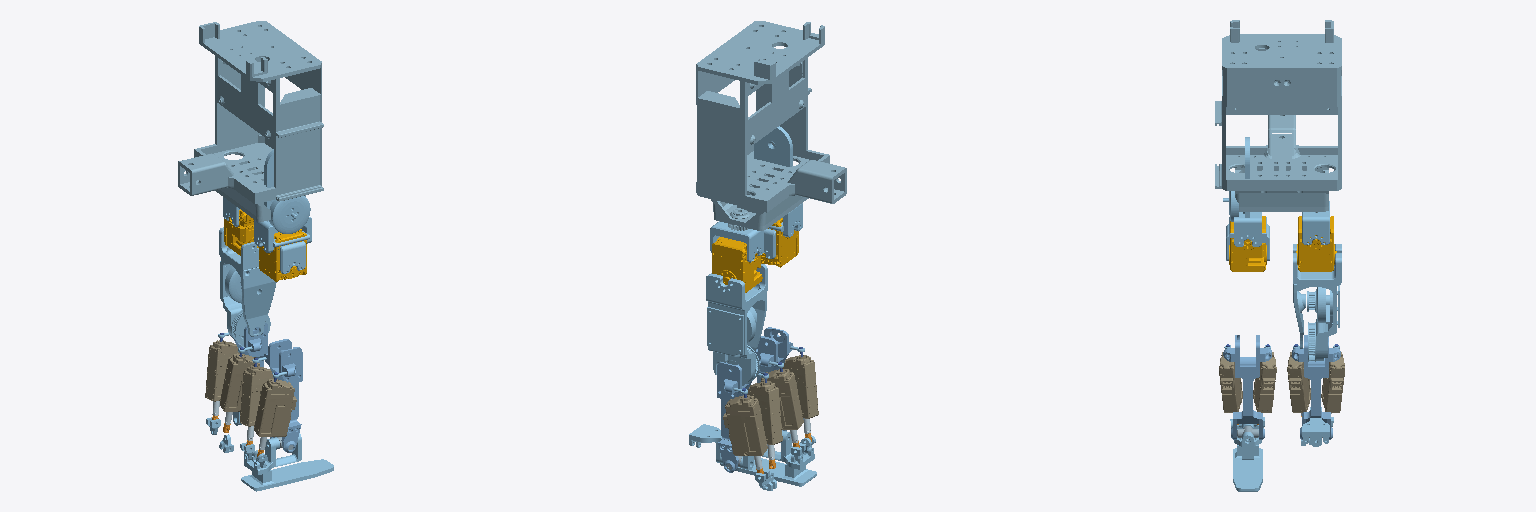
--- Facts derived from the render (not from the file) ---
Views: 3 orthographic renders of the robot side by side, from view 1: azimuth 30°, elevation 25°; view 2: azimuth 150°, elevation 25°; view 3: azimuth 270°, elevation 25°.
Model toddlerbot_legs with 37 links and 36 joints (32 revolute, 4 prismatic), rooted at body_link, posed every joint at zero.
Visible links, largest first — view 1: body_link, left_hip_pitch_link, right_hip_pitch_link, ank_roll_link_2, 12lf_4, right_calf_link, 12lf, 12lf_3, 12lf_2, hip_roll_link_2, hip_roll_link, hip_yaw_link_2 (+1 smaller); view 2: body_link, left_hip_pitch_link, 12lf, hip_roll_link, ank_roll_link_2, right_hip_pitch_link, left_calf_link, 12lf_2, 12lf_4, 12lf_3, right_calf_link, hip_yaw_link (+2 smaller); view 3: body_link, left_hip_pitch_link, right_calf_link, ank_roll_link_2, left_calf_link, hip_roll_link, hip_roll_link_2, 12lf_2, 12lf_3, 12lf_4, 12lf, hip_yaw_link (+3 smaller).
Boxes of the visible links, x1,y1,x2,y2 form: body_link: (178, 21, 323, 221); left_hip_pitch_link: (219, 227, 276, 345); right_hip_pitch_link: (264, 149, 310, 273); ank_roll_link_2: (241, 433, 333, 491); 12lf_4: (254, 379, 296, 436); right_calf_link: (264, 339, 302, 452); 12lf: (205, 340, 239, 401); 12lf_3: (240, 365, 273, 426); 12lf_2: (220, 353, 259, 411); hip_roll_link_2: (259, 229, 306, 281); hip_roll_link: (224, 209, 258, 255); hip_yaw_link_2: (254, 217, 311, 252); body_link: (696, 21, 846, 230); left_hip_pitch_link: (706, 264, 767, 385); 12lf: (723, 395, 767, 455); hip_roll_link: (712, 237, 762, 292); ank_roll_link_2: (720, 430, 816, 486); right_hip_pitch_link: (754, 126, 792, 258); left_calf_link: (717, 362, 752, 472); 12lf_2: (747, 381, 782, 444); 12lf_4: (782, 355, 818, 418); 12lf_3: (761, 369, 803, 429); right_calf_link: (755, 327, 792, 430); hip_yaw_link: (710, 221, 763, 262); body_link: (1215, 20, 1341, 212); left_hip_pitch_link: (1293, 244, 1341, 361); right_calf_link: (1223, 335, 1271, 439); ank_roll_link_2: (1233, 424, 1262, 491); left_calf_link: (1292, 335, 1340, 439); hip_roll_link: (1296, 216, 1336, 271); hip_roll_link_2: (1229, 216, 1266, 271); 12lf_2: (1287, 352, 1310, 412); 12lf_3: (1253, 352, 1276, 412); 12lf_4: (1219, 352, 1242, 412); 12lf: (1321, 352, 1344, 412); hip_yaw_link: (1302, 201, 1329, 244).
Size in the robot's own frame: 0.1464 by 0.13 by 0.4703 metres.
Meshes: 37 distinct files referenced, 37 mesh visuals loaded (37 binary STL).

URDF robot description (toddlerbot_legs):
<robot name="toddlerbot_legs">
  <mujoco>
    <compiler strippath="false" balanceinertia="true" discardvisual="false" />
  </mujoco>
  <link name="body_link">
    <visual>
      <origin xyz="0 0 0" rpy="0 -0 0" />
      <geometry>
        <mesh filename="../assemblies/no_body/meshes/body_link_visual.stl" />
      </geometry>
      <material name="body_link_material">
        <color rgba="0.60265235106909254004 0.74758186619713706822 0.82292492068132783167 1.0" />
      </material>
    </visual>
    <collision>
      <origin xyz="0 0 0" rpy="0 -0 0" />
      <geometry>
        <mesh filename="collisions/body_link_collision.stl" />
      </geometry>
    </collision>
    <inertial>
      <origin xyz="-0.014403523331510962452 -0.00023164401215091008635 0.31153288519557342795" rpy="0 0 0" />
      <mass value="0.1326329205818372603" />
      <inertia ixx="0.00012163093315384155082" ixy="1.4038303149150714698e-07" ixz="1.0872278951927058559e-05" iyy="8.497013793210614742e-05" iyz="3.8740821289234341171e-07" izz="0.00015647103471607424" />
    </inertial>
  </link>

  <joint name="left_hip_yaw" type="revolute">
    <origin xyz="-0.0063999999999966045855 0.033999999999999447331 0.28550000000000008704" rpy="1.2173498077257119742e-16 -2.7439672175516685782e-14 -9.8815480994853422476e-14" />
    <parent link="body_link" />
    <child link="hip_yaw_link" />
    <axis xyz="0 0 1" />
    <limit effort="1" velocity="20" lower="-1.570796326794896558" upper="1.570796326794896558" />
    <joint_properties friction="0.0" />
  </joint>

  <joint name="right_hip_yaw" type="revolute">
    <origin xyz="-0.006399999999996792803 -0.034000000000000661637 0.28549999999999997602" rpy="1.2173498094410956825e-16 -2.7428229798067236768e-14 -5.0714987764877150767e-13" />
    <parent link="body_link" />
    <child link="hip_yaw_link_2" />
    <axis xyz="0 0 1" />
    <limit effort="1" velocity="20" lower="-1.570796326794896558" upper="1.570796326794896558" />
    <joint_properties friction="0.0" />
  </joint>


  <link name="hip_yaw_link">
    <visual>
      <origin xyz="0 0 0" rpy="0 -0 0" />
      <geometry>
        <mesh filename="../assemblies/left_3R+RH5_leg/meshes/left_hip_yaw_link_visual.stl" />
      </geometry>
      <material name="hip_yaw_link_material">
        <color rgba="0.61568627450980395466 0.81176470588235294379 0.9294117647058824927 1.0" />
      </material>
    </visual>
    <inertial>
      <origin xyz="1.0722510336680159674e-18 -3.2283346677807587375e-19 -0.0098390489054830127663" rpy="0 0 0" />
      <mass value="0.0090258837370979193293" />
      <inertia ixx="1.3230458239086465149e-06" ixy="-3.359224963794823924e-24" ixz="-1.1251788840973432436e-52" iyy="3.8408510960331439664e-06" iyz="2.3044956050358340648e-34" izz="3.8721396285793924761e-06" />
    </inertial>
  </link>

  <link name="hip_roll_link">
    <visual>
      <origin xyz="0 0 0" rpy="0 -0 0" />
      <geometry>
        <mesh filename="../assemblies/left_3R+RH5_leg/meshes/left_hip_roll_link_visual.stl" />
      </geometry>
      <material name="hip_roll_link_material">
        <color rgba="0.95018735644455865064 0.7067892720042843191 0.061612079402596720001 1.0" />
      </material>
    </visual>
    <collision>
      <origin xyz="0 0 0" rpy="0 -0 0" />
      <geometry>
        <mesh filename="collisions/left_hip_roll_link_collision.stl" />
      </geometry>
    </collision>
    <inertial>
      <origin xyz="-0.012000151133961392894 -0.0004958883138495338112 -0.018504019244504732455" rpy="0 0 0" />
      <mass value="0.098012391483528651936" />
      <inertia ixx="2.0221748766306466634e-05" ixy="-4.1552068243118489132e-08" ixz="-4.1225592188160438566e-08" iyy="2.7358099958307196734e-05" iyz="-5.0935731752381026805e-07" izz="2.7358069524723232986e-05" />
    </inertial>
  </link>

  <link name="left_hip_pitch_link">
    <visual>
      <origin xyz="0 0 0" rpy="0 -0 0" />
      <geometry>
        <mesh filename="../assemblies/left_3R+RH5_leg/meshes/left_hip_pitch_link_visual.stl" />
      </geometry>
      <material name="left_hip_pitch_link_material">
        <color rgba="0.61653630588246999267 0.80730204117585702139 0.92176148235188937186 1.0" />
      </material>
    </visual>
    <collision>
      <origin xyz="0 0 0" rpy="0 -0 0" />
      <geometry>
        <mesh filename="collisions/left_hip_pitch_link_collision.stl" />
      </geometry>
    </collision>
    <inertial>
      <origin xyz="-0.00021632240618358212353 0.052986695633820017626 0.014788126099014513998" rpy="0 0 0" />
      <mass value="0.094084588454108844524" />
      <inertia ixx="6.3099190805816188395e-05" ixy="4.2254461504174256037e-07" ixz="-1.5223568275358419485e-07" iyy="2.1754782765193058833e-05" iyz="-1.4708367336520511655e-06" izz="6.2817482611037645619e-05" />
    </inertial>
  </link>

  <link name="left_calf_link">
    <visual>
      <origin xyz="0 0 0" rpy="0 -0 0" />
      <geometry>
        <mesh filename="../assemblies/left_3R+RH5_leg/meshes/left_calf_link_visual.stl" />
      </geometry>
      <material name="left_calf_link_material">
        <color rgba="0.55397243078540503447 0.73161358475427695769 0.87715705664081478066 1.0" />
      </material>
    </visual>
    <collision>
      <origin xyz="0 0 0" rpy="0 -0 0" />
      <geometry>
        <mesh filename="collisions/left_calf_link_collision.stl" />
      </geometry>
    </collision>
    <inertial>
      <origin xyz="-0.0039136163069529794969 -0.043640010796484503264 0.0081849279519870133531" rpy="0 0 0" />
      <mass value="0.016290616864051549878" />
      <inertia ixx="1.5543943584208743725e-05" ixy="-2.1605519114066121883e-07" ixz="7.0470291476150020838e-09" iyy="1.9364407917964761494e-06" iyz="1.9633933099789637219e-08" izz="1.4807197003527088815e-05" />
    </inertial>
  </link>

  <link name="ank_pitch_link">
    <visual>
      <origin xyz="0 0 0" rpy="0 -0 0" />
      <geometry>
        <mesh filename="../assemblies/left_3R+RH5_leg/meshes/left_ank_pitch_link_visual.stl" />
      </geometry>
      <material name="ank_pitch_link_material">
        <color rgba="0.63189161126160264814 0.7266866879354088038 0.78356373393969258601 1.0" />
      </material>
    </visual>
    <inertial>
      <origin xyz="4.0269685077374882913e-08 0.00059528282566739029041 -0.014599922383890481456" rpy="0 0 0" />
      <mass value="0.0042238381753791614387" />
      <inertia ixx="4.3705254067385321152e-07" ixy="1.6834346764733790142e-13" ixz="1.6428822479797586242e-12" iyy="3.9782741364647126382e-07" iyz="2.0919252891793530041e-14" izz="8.8858574534548866036e-08" />
    </inertial>
  </link>

  <link name="ank_roll_link">
    <visual>
      <origin xyz="0 0 0" rpy="0 -0 0" />
      <geometry>
        <mesh filename="../assemblies/left_3R+RH5_leg/meshes/left_ank_roll_link_visual.stl" />
      </geometry>
      <material name="ank_roll_link_material">
        <color rgba="0.61568627450980395466 0.81176470588235294379 0.92941176470588238168 1.0" />
      </material>
    </visual>
    <collision>
      <origin xyz="0 0 0" rpy="0 -0 0" />
      <geometry>
        <mesh filename="collisions/left_ank_roll_link_collision.stl" />
      </geometry>
    </collision>
    <inertial>
      <origin xyz="-6.3661537447933322514e-10 0.027240102316353712736 -0.0056169852551464618043" rpy="0 0 0" />
      <mass value="0.013844478784760248444" />
      <inertia ixx="1.0150902309234937601e-05" ixy="6.860330269947860182e-14" ixz="-3.2605547316532086247e-13" iyy="8.66361166634314672e-06" iyz="-7.8151778926544964308e-07" izz="2.8991570356470419231e-06" />
    </inertial>
  </link>

  <link name="ank_rr_link">
    <visual>
      <origin xyz="0 0 0" rpy="0 -0 0" />
      <geometry>
        <mesh filename="../assemblies/left_3R+RH5_leg/meshes/left_ank_rr_link_visual.stl" />
      </geometry>
      <material name="ank_rr_link_material">
        <color rgba="0.61568627450980395466 0.81176470588235294379 0.92941176470588238168 1.0" />
      </material>
    </visual>
    <inertial>
      <origin xyz="3.4593503690053728679e-05 -0.0062999445222071577544 2.2843393600707675866e-19" rpy="0 0 0" />
      <mass value="0.00044289790445047673732" />
      <inertia ixx="9.089475500483527331e-09" ixy="5.6689994077039792641e-11" ixz="-1.0879024115044971254e-14" iyy="8.3785129146959922129e-09" iyz="1.6391214081112533046e-31" izz="1.3107013728801491474e-08" />
    </inertial>
  </link>

  <link name="12lf_rod_end">
    <visual>
      <origin xyz="0 0 0" rpy="0 -0 0" />
      <geometry>
        <mesh filename="../assemblies/left_3R+RH5_leg/meshes/left_12lf_rod_end_visual.stl" />
      </geometry>
      <material name="12lf_rod_end_material">
        <color rgba="0.92771758928836545177 0.61049283053223013518 0.21847658490585164515 1.0" />
      </material>
    </visual>
    <inertial>
      <origin xyz="-4.4735207312314432896e-11 -0.00384221859382460635 6.4384187209444622633e-06" rpy="0 0 0" />
      <mass value="0.00085420491177815895123" />
      <inertia ixx="1.1840985264406803937e-08" ixy="2.0225978439573764585e-16" ixz="-9.2606419922371643422e-16" iyy="3.3549621576797599008e-09" iyz="7.4535631381818761116e-12" izz="1.2703522254420021284e-08" />
    </inertial>
  </link>

  <joint name="left_ank_R21" type="revolute">
    <origin xyz="0 -0.010000000000000036637 -2.0816681711721685133e-17" rpy="-1.5707963267949025532 -1.4285697747629921839 1.5707963267949025532" />
    <parent link="ank_rr_link" />
    <child link="12lf_rod_end" />
    <axis xyz="0 0 1" />
    <limit effort="1" velocity="20" lower="-1.570796326794896558" upper="1.570796326794896558" />
    <joint_properties friction="0.0" />
  </joint>

  <joint name="left_ank_R11" type="revolute">
    <origin xyz="-0.0099999999999999915345 0.012499999999999872324 -0.033600000000000004863" rpy="1.6323812772036896109e-17 1.4002646486553138019e-17 -0.10116031275705798798" />
    <parent link="ank_roll_link" />
    <child link="ank_rr_link" />
    <axis xyz="0 0 1" />
    <limit effort="1" velocity="20" lower="-1.570796326794896558" upper="1.570796326794896558" />
    <joint_properties friction="0.0" />
  </joint>

  <link name="ank_rr_link_2">
    <visual>
      <origin xyz="0 0 0" rpy="0 -0 0" />
      <geometry>
        <mesh filename="../assemblies/left_3R+RH5_leg/meshes/left_ank_rr_link_2_visual.stl" />
      </geometry>
      <material name="ank_rr_link_2_material">
        <color rgba="0.61568627450980395466 0.81176470588235294379 0.92941176470588238168 1.0" />
      </material>
    </visual>
    <inertial>
      <origin xyz="3.459350369005370835e-05 -0.0062999445222072123982 -6.7104599679001474782e-18" rpy="0 0 0" />
      <mass value="0.00044289790445047673732" />
      <inertia ixx="9.0894755004835306397e-09" ixy="5.6689994077039992974e-11" ixz="-1.087902411504497441e-14" iyy="8.3785129146959889042e-09" iyz="-2.6982978837298398155e-32" izz="1.3107013728801491474e-08" />
    </inertial>
  </link>

  <link name="12lf_rod_end_2">
    <visual>
      <origin xyz="0 0 0" rpy="0 -0 0" />
      <geometry>
        <mesh filename="../assemblies/left_3R+RH5_leg/meshes/left_12lf_rod_end_2_visual.stl" />
      </geometry>
      <material name="12lf_rod_end_2_material">
        <color rgba="0.92771758928836545177 0.61049283053223013518 0.21847658490585164515 1.0" />
      </material>
    </visual>
    <inertial>
      <origin xyz="-4.4735189307638868103e-11 -0.0038422185938245824975 6.4384187209439294795e-06" rpy="0 0 0" />
      <mass value="0.00085420491177815895123" />
      <inertia ixx="1.1840985264406808901e-08" ixy="2.0225977929011866253e-16" ixz="-9.2606419849108415381e-16" iyy="3.3549621576797350854e-09" iyz="7.4535631381823624033e-12" izz="1.2703522254420004741e-08" />
    </inertial>
  </link>

  <joint name="left_ank_R22" type="revolute">
    <origin xyz="-6.9388939039072283776e-18 -0.010000000000000008882 0" rpy="1.570796326794896558 -1.4285463212677487199 -1.5707963267948970021" />
    <parent link="ank_rr_link_2" />
    <child link="12lf_rod_end_2" />
    <axis xyz="0 0 1" />
    <limit effort="1" velocity="20" lower="-1.570796326794896558" upper="1.570796326794896558" />
    <joint_properties friction="0.0" />
  </joint>

  <joint name="left_ank_R12" type="revolute">
    <origin xyz="0.0099999999999999984734 0.012499999999999761302 -0.033599999999999997924" rpy="3.1415926535897824579 9.4861357133311978266e-15 -3.0405529889788134312" />
    <parent link="ank_roll_link" />
    <child link="ank_rr_link_2" />
    <axis xyz="0 0 1" />
    <limit effort="1" velocity="20" lower="-1.570796326794896558" upper="1.570796326794896558" />
    <joint_properties friction="0.0" />
  </joint>

  <joint name="left_ank_roll" type="revolute">
    <origin xyz="2.2759572004815709079e-15 0.0015000000000041896053 -0.014599999999999611552" rpy="-1.570796326795051101 -1.5707963267944144992 0" />
    <parent link="ank_pitch_link" />
    <child link="ank_roll_link" />
    <axis xyz="0 0 1" />
    <limit effort="1" velocity="20" lower="-1.570796326794896558" upper="1.570796326794896558" />
    <joint_properties friction="0.0" />
  </joint>

  <joint name="left_ank_pitch" type="revolute">
    <origin xyz="9.1534583908775112557e-19 -0.10000000000000003331 -0.0061999999999999989148" rpy="3.1415926535897926719 -8.7927079361011792447e-15 -1.5707963267948961139" />
    <parent link="left_calf_link" />
    <child link="ank_pitch_link" />
    <axis xyz="0 0 1" />
    <limit effort="1" velocity="20" lower="-1.570796326794896558" upper="1.570796326794896558" />
    <joint_properties friction="0.0" />
  </joint>

  <link name="ball_joint_container">
    <visual>
      <origin xyz="0 0 0" rpy="0 -0 0" />
      <geometry>
        <mesh filename="../assemblies/left_3R+RH5_leg/meshes/left_ball_joint_container_visual.stl" />
      </geometry>
      <material name="ball_joint_container_material">
        <color rgba="0.61568627450980395466 0.81176470588235294379 0.9294117647058824927 1.0" />
      </material>
    </visual>
    <inertial>
      <origin xyz="-6.4666794741501348019e-18 2.7634224477689354266e-17 -0.0097125341669083414126" rpy="0 0 0" />
      <mass value="4.8037356425330562243e-05" />
      <inertia ixx="7.1865480628741666366e-10" ixy="-3.4743251124436435837e-27" ixz="3.7630329617305141944e-39" iyy="8.475420427718555978e-10" iyz="-3.491409188473297406e-39" izz="1.8625314111651911712e-10" />
    </inertial>
  </link>

  <link name="ball_joint_ball">
    <visual>
      <origin xyz="0 0 0" rpy="0 -0 0" />
      <geometry>
        <mesh filename="../assemblies/left_3R+RH5_leg/meshes/left_ball_joint_ball_visual.stl" />
      </geometry>
      <material name="ball_joint_ball_material">
        <color rgba="0.3291302810242056065 0.44310466418644928188 0.69204871161977121741 1.0" />
      </material>
    </visual>
    <inertial>
      <origin xyz="-1.024304264232596922e-18 -0.0010308669810016205057 7.5361587101412525033e-18" rpy="0 0 0" />
      <mass value="4.4053796295264623832e-05" />
      <inertia ixx="3.128501134969269094e-10" ixy="2.3037156279423982313e-26" ixz="6.7416080735321820408e-26" iyy="6.2569568612796186738e-11" iyz="-1.191934157241071287e-25" izz="3.1285321460377227819e-10" />
    </inertial>
  </link>

  <link name="12lf">
    <visual>
      <origin xyz="0 0 0" rpy="0 -0 0" />
      <geometry>
        <mesh filename="../assemblies/left_3R+RH5_leg/meshes/left_12lf_visual.stl" />
      </geometry>
      <material name="12lf_material">
        <color rgba="0.62004392096503557763 0.58836684612040224263 0.49897069027350271497 1.0" />
      </material>
    </visual>
    <inertial>
      <origin xyz="0.004908420722696336079 -0.00013802440006551879069 -0.029947003575847935125" rpy="0 0 0" />
      <mass value="0.044782197690790462308" />
      <inertia ixx="1.5260128420490007696e-05" ixy="2.2955774098793662633e-08" ixz="-8.1364204856265883026e-08" iyy="1.8188469777210560066e-05" iyz="-5.554224117070019674e-08" izz="5.1496273889337949923e-06" />
    </inertial>
  </link>

  <link name="12lf_rod">
    <visual>
      <origin xyz="0 0 0" rpy="0 -0 0" />
      <geometry>
        <mesh filename="../assemblies/left_3R+RH5_leg/meshes/left_12lf_rod_visual.stl" />
      </geometry>
      <material name="12lf_rod_material">
        <color rgba="0.80250260812861884396 0.89340612183512713163 0.94491811293548189088 1.0" />
      </material>
    </visual>
    <inertial>
      <origin xyz="-6.3222084044054348599e-07 4.6933255325162329098e-07 -0.012893387334327627292" rpy="0 0 0" />
      <mass value="0.0025088292483592144512" />
      <inertia ixx="2.6944521128627840825e-07" ixy="7.1389570157677108448e-15" ixz="1.356224313567482514e-11" iyy="2.6944520001684385821e-07" iyz="-1.0089988427266224264e-11" izz="1.7809843599861028799e-08" />
    </inertial>
  </link>

  <joint name="left_ank_act1" type="prismatic">
    <origin xyz="2.2722093543023347273e-06 9.5756735873919751612e-16 -0.072660031604096092517" rpy="-3.1415926535896594451 8.5062006308179150635e-14 -2.2021168238262847083" />
    <parent link="12lf" />
    <child link="12lf_rod" />
    <axis xyz="0 0 1" />
    <limit effort="1" velocity="20" lower="0" upper="0.040000000000000000833" />
    <joint_properties friction="0.0" />
  </joint>

  <joint name="left_ank_B31" type="revolute">
    <origin xyz="1.7347234759768070944e-18 -0.0064387505004004641496 1.3877787807814456755e-17" rpy="-1.57079632679489678 0.16913440034102092402 4.5559338426713504067e-15" />
    <parent link="ball_joint_ball" />
    <child link="12lf" />
    <axis xyz="0 0 1" />
    <limit effort="1" velocity="20" lower="-0.785398163397448279" upper="0.785398163397448279" />
    <joint_properties friction="0.0" />
  </joint>

  <joint name="left_ank_B21" type="revolute">
    <origin xyz="-6.9388939039072283776e-18 2.7755575615628913511e-17 -0.011499999999999999806" rpy="1.570796326794896558 -1.4285697747625467624 1.5707963267948807928" />
    <parent link="ball_joint_container" />
    <child link="ball_joint_ball" />
    <axis xyz="0 0 1" />
    <limit effort="1" velocity="20" lower="-0.785398163397448279" upper="0.785398163397448279" />
    <joint_properties friction="0.0" />
  </joint>

  <joint name="left_ank_B11" type="revolute">
    <origin xyz="0.0079999999999999880235 -0.015000000000000041078 0.028300000000000005707" rpy="-1.570796326794896558 1.469636014037934757 1.5707963267948754638" />
    <parent link="left_calf_link" />
    <child link="ball_joint_container" />
    <axis xyz="0 0 1" />
    <limit effort="1" velocity="20" lower="-0.785398163397448279" upper="0.785398163397448279" />
    <joint_properties friction="0.0" />
  </joint>

  <link name="ball_joint_container_2">
    <visual>
      <origin xyz="0 0 0" rpy="0 -0 0" />
      <geometry>
        <mesh filename="../assemblies/left_3R+RH5_leg/meshes/left_ball_joint_container_2_visual.stl" />
      </geometry>
      <material name="ball_joint_container_2_material">
        <color rgba="0.61568627450980395466 0.81176470588235294379 0.9294117647058824927 1.0" />
      </material>
    </visual>
    <inertial>
      <origin xyz="4.7221442975709347941e-19 -1.213511379395615796e-19 -0.0097125341669083431473" rpy="0 0 0" />
      <mass value="4.8037356425330562243e-05" />
      <inertia ixx="7.1865480628741666366e-10" ixy="5.8900531446197729655e-29" ixz="8.3848741101523981788e-39" iyy="8.475420427718555978e-10" iyz="-8.9837792996627276308e-39" izz="1.8625314111651911712e-10" />
    </inertial>
  </link>

  <link name="ball_joint_ball_2">
    <visual>
      <origin xyz="0 0 0" rpy="0 -0 0" />
      <geometry>
        <mesh filename="../assemblies/left_3R+RH5_leg/meshes/left_ball_joint_ball_2_visual.stl" />
      </geometry>
      <material name="ball_joint_ball_2_material">
        <color rgba="0.3291302810242056065 0.44310466418644928188 0.69204871161977121741 1.0" />
      </material>
    </visual>
    <inertial>
      <origin xyz="9.9385112779056612218e-19 -0.0010308669810016705959 1.5569977136113586989e-18" rpy="0 0 0" />
      <mass value="4.4053796295264623832e-05" />
      <inertia ixx="3.1285011349692577203e-10" ixy="-3.4540783359364810345e-25" ixz="2.9439514602620625497e-27" iyy="6.2569568612796910521e-11" iyz="-2.0455197868117900813e-25" izz="3.1285321460377165781e-10" />
    </inertial>
  </link>

  <link name="12lf_2">
    <visual>
      <origin xyz="0 0 0" rpy="0 -0 0" />
      <geometry>
        <mesh filename="../assemblies/left_3R+RH5_leg/meshes/left_12lf_2_visual.stl" />
      </geometry>
      <material name="12lf_2_material">
        <color rgba="0.62004392096503546661 0.58836684612040224263 0.49897069027350271497 1.0" />
      </material>
    </visual>
    <inertial>
      <origin xyz="0.0049084207226895663206 -0.00013802440006755126319 -0.029947003575846946333" rpy="0 0 0" />
      <mass value="0.044782197690790462308" />
      <inertia ixx="1.5260128420489414773e-05" ixy="2.2955774098679071649e-08" ixz="-8.136420485908655568e-08" iyy="1.8188469777211379994e-05" iyz="-5.5542241171766882536e-08" izz="5.1496273889352578182e-06" />
    </inertial>
  </link>

  <link name="12lf_rod_2">
    <visual>
      <origin xyz="0 0 0" rpy="0 -0 0" />
      <geometry>
        <mesh filename="../assemblies/left_3R+RH5_leg/meshes/left_12lf_rod_2_visual.stl" />
      </geometry>
      <material name="12lf_rod_2_material">
        <color rgba="0.80250260812861884396 0.89340612183512713163 0.94491811293548189088 1.0" />
      </material>
    </visual>
    <inertial>
      <origin xyz="-6.3222083681712097906e-07 4.6933255272327711983e-07 -0.012893387334328714963" rpy="0 0 0" />
      <mass value="0.0025088292483592144512" />
      <inertia ixx="2.6944521128621816303e-07" ixy="7.1389570394404216016e-15" ixz="1.3562243029608591047e-11" iyy="2.6944520001678361299e-07" iyz="-1.0089988411777272141e-11" izz="1.780984359986099902e-08" />
    </inertial>
  </link>

  <joint name="left_ank_act2" type="prismatic">
    <origin xyz="2.2722093491484712802e-06 -6.5988881026157741871e-15 -0.07266003047881974819" rpy="-3.1415926535895000171 5.9280886354915822063e-14 -2.2021168238262815997" />
    <parent link="12lf_2" />
    <child link="12lf_rod_2" />
    <axis xyz="0 0 1" />
    <limit effort="1" velocity="20" lower="0" upper="0.040000000000000000833" />
    <joint_properties friction="0.0" />
  </joint>

  <joint name="left_ank_B32" type="revolute">
    <origin xyz="8.6736173798840354721e-18 -0.0064387505004005751719 6.9388939039072283776e-18" rpy="-1.5707963267948972241 -0.17993145005787733459 6.7429791500468328215e-16" />
    <parent link="ball_joint_ball_2" />
    <child link="12lf_2" />
    <axis xyz="0 0 1" />
    <limit effort="1" velocity="20" lower="-0.785398163397448279" upper="0.785398163397448279" />
    <joint_properties friction="0.0" />
  </joint>

  <joint name="left_ank_B22" type="revolute">
    <origin xyz="-3.4694469519536141888e-17 -2.7755575615628913511e-16 -0.01149999999999988011" rpy="1.570796326794896558 -1.4285463212680655776 -1.5707963267948985564" />
    <parent link="ball_joint_container_2" />
    <child link="ball_joint_ball_2" />
    <axis xyz="0 0 1" />
    <limit effort="1" velocity="20" lower="-0.785398163397448279" upper="0.785398163397448279" />
    <joint_properties friction="0.0" />
  </joint>

  <joint name="left_ank_B12" type="revolute">
    <origin xyz="0.0080000000000001268013 -0.014999999999999791278 -0.011499999999999987663" rpy="-1.570796326794896558 -1.4697566621822597543 1.5707963267949038855" />
    <parent link="left_calf_link" />
    <child link="ball_joint_container_2" />
    <axis xyz="0 0 1" />
    <limit effort="1" velocity="20" lower="-0.785398163397448279" upper="0.785398163397448279" />
    <joint_properties friction="0.0" />
  </joint>

  <joint name="left_knee" type="revolute">
    <origin xyz="-6.5356617016366259295e-15 0.095999999999999696687 0.027400000000000260952" rpy="-3.1415926535897842342 1.6653345304510526278e-16 2.2176671495670943584e-16" />
    <parent link="left_hip_pitch_link" />
    <child link="left_calf_link" />
    <axis xyz="0 0 1" />
    <limit effort="1" velocity="20" lower="-1.570796326794896558" upper="2.2689280275926284602" />
    <joint_properties friction="0.0" />
  </joint>

  <joint name="left_hip_pitch" type="revolute">
    <origin xyz="-0.024000000716153851998 -0.019000000152441028078 -0.019000000152448098811" rpy="-1.570796326794478226 1.5707963267948015229 0" />
    <parent link="hip_roll_link" />
    <child link="left_hip_pitch_link" />
    <axis xyz="0 0 1" />
    <limit effort="1" velocity="20" lower="-1.570796326794896558" upper="1.570796326794896558" />
    <joint_properties friction="0.0" />
  </joint>

  <joint name="left_hip_roll" type="revolute">
    <origin xyz="0.019000000000000284023 -8.3919669538584410836e-16 -0.026000000000000463712" rpy="-3.1415926535897922278 -1.5707963267945732611 0" />
    <parent link="hip_yaw_link" />
    <child link="hip_roll_link" />
    <axis xyz="0 0 1" />
    <limit effort="1" velocity="20" lower="-1.570796326794896558" upper="1.570796326794896558" />
    <joint_properties friction="0.0" />
  </joint>


  <link name="hip_yaw_link_2">
    <visual>
      <origin xyz="0 0 0" rpy="0 -0 0" />
      <geometry>
        <mesh filename="../assemblies/right_3R+RH5_leg/meshes/right_hip_yaw_link_visual.stl" />
      </geometry>
      <material name="hip_yaw_link_material">
        <color rgba="0.61568627450980395466 0.81176470588235294379 0.9294117647058824927 1.0" />
      </material>
    </visual>
    <inertial>
      <origin xyz="1.0722510336647112642e-18 -3.2283346675930388273e-19 -0.0098390489054829086829" rpy="0 0 0" />
      <mass value="0.0090258837370979193293" />
      <inertia ixx="1.3230458239085876461e-06" ixy="-6.4778545919079883866e-49" ixz="1.7322911775161992475e-33" iyy="3.8408510960330558749e-06" iyz="-1.4482241779965787293e-32" izz="3.8721396285793094669e-06" />
    </inertial>
  </link>

  <link name="hip_roll_link_2">
    <visual>
      <origin xyz="0 0 0" rpy="0 -0 0" />
      <geometry>
        <mesh filename="../assemblies/right_3R+RH5_leg/meshes/right_hip_roll_link_visual.stl" />
      </geometry>
      <material name="hip_roll_link_material">
        <color rgba="0.95018735644455842859 0.7067892720042843191 0.061612079402596720001 1.0" />
      </material>
    </visual>
    <collision>
      <origin xyz="0 0 0" rpy="0 -0 0" />
      <geometry>
        <mesh filename="collisions/right_hip_roll_link_collision.stl" />
      </geometry>
    </collision>
    <inertial>
      <origin xyz="-0.012000151133961672184 -0.00049588831385562670215 -0.018504019244505481856" rpy="0 0 0" />
      <mass value="0.098012391483528665814" />
      <inertia ixx="2.0221748766307256069e-05" ixy="-4.1552068245159084147e-08" ixz="-4.1225592187111070623e-08" iyy="2.7358099958307362752e-05" iyz="-5.09357317523940817e-07" izz="2.7358069524724035974e-05" />
    </inertial>
  </link>

  <link name="right_hip_pitch_link">
    <visual>
      <origin xyz="0 0 0" rpy="0 -0 0" />
      <geometry>
        <mesh filename="../assemblies/right_3R+RH5_leg/meshes/right_hip_pitch_link_visual.stl" />
      </geometry>
      <material name="right_hip_pitch_link_material">
        <color rgba="0.6165363060683557439 0.80730204019995621678 0.92176148067891638949 1.0" />
      </material>
    </visual>
    <collision>
      <origin xyz="0 0 0" rpy="0 -0 0" />
      <geometry>
        <mesh filename="collisions/right_hip_pitch_link_collision.stl" />
      </geometry>
    </collision>
    <inertial>
      <origin xyz="-1.4741268609436127687e-05 0.052986690876698258612 0.014788127171305258042" rpy="0 0 0" />
      <mass value="0.094084567879581942895" />
      <inertia ixx="6.3099182122443740121e-05" ixy="-2.2045192591945073076e-07" ixz="-1.2728889936300975704e-08" iyy="2.1759163818498408386e-05" iyz="-1.4708395298813211513e-06" izz="6.2821853547821466125e-05" />
    </inertial>
  </link>

  <link name="right_calf_link">
    <visual>
      <origin xyz="0 0 0" rpy="0 -0 0" />
      <geometry>
        <mesh filename="../assemblies/right_3R+RH5_leg/meshes/right_calf_link_visual.stl" />
      </geometry>
      <material name="right_calf_link_material">
        <color rgba="0.5539724769354649192 0.73161364570947462482 0.87715709724734280961 1.0" />
      </material>
    </visual>
    <collision>
      <origin xyz="0 0 0" rpy="0 -0 0" />
      <geometry>
        <mesh filename="collisions/right_calf_link_collision.stl" />
      </geometry>
    </collision>
    <inertial>
      <origin xyz="-0.0039136048281023325807 0.043639997035758611166 0.00818489966080624895" rpy="0 0 0" />
      <mass value="0.016290630569901022595" />
      <inertia ixx="1.5543964735761963141e-05" ixy="2.1605989306077929852e-07" ixz="7.0519548983021387359e-09" iyy="1.9364566813417006028e-06" iyz="-1.9645570089566234559e-08" izz="1.4807205615850117011e-05" />
    </inertial>
  </link>

  <link name="ank_pitch_link_2">
    <visual>
      <origin xyz="0 0 0" rpy="0 -0 0" />
      <geometry>
        <mesh filename="../assemblies/right_3R+RH5_leg/meshes/right_ank_pitch_link_visual.stl" />
      </geometry>
      <material name="ank_pitch_link_material">
        <color rgba="0.63189161126160275916 0.7266866879354088038 0.78356373393969258601 1.0" />
      </material>
    </visual>
    <inertial>
      <origin xyz="4.0269688365285932134e-08 0.00059528282566558552748 -0.014599922383890160532" rpy="0 0 0" />
      <mass value="0.0042238381753791614387" />
      <inertia ixx="4.3705254067389275737e-07" ixy="1.6834346808786580074e-13" ixz="1.6428822803056156771e-12" iyy="3.9782741364654728503e-07" iyz="2.0919225292137162821e-14" izz="8.8858574534512311271e-08" />
    </inertial>
  </link>

  <link name="ank_roll_link_2">
    <visual>
      <origin xyz="0 0 0" rpy="0 -0 0" />
      <geometry>
        <mesh filename="../assemblies/right_3R+RH5_leg/meshes/right_ank_roll_link_visual.stl" />
      </geometry>
      <material name="ank_roll_link_material">
        <color rgba="0.61568627450980395466 0.81176470588235294379 0.92941176470588238168 1.0" />
      </material>
    </visual>
    <collision>
      <origin xyz="0 0 0" rpy="0 -0 0" />
      <geometry>
        <mesh filename="collisions/right_ank_roll_link_collision.stl" />
      </geometry>
    </collision>
    <inertial>
      <origin xyz="-6.3661537447933332854e-10 0.027240102316353740491 -0.005616985255146463539" rpy="0 0 0" />
      <mass value="0.013844478784760248444" />
      <inertia ixx="1.0150902309234937601e-05" ixy="6.8603302699478627063e-14" ixz="-3.2605547316532086247e-13" iyy="8.663611666343145026e-06" iyz="-7.8151778926544943132e-07" izz="2.8991570356470419231e-06" />
    </inertial>
  </link>

  <link name="ank_rr_link_3">
    <visual>
      <origin xyz="0 0 0" rpy="0 -0 0" />
      <geometry>
        <mesh filename="../assemblies/right_3R+RH5_leg/meshes/right_ank_rr_link_visual.stl" />
      </geometry>
      <material name="ank_rr_link_material">
        <color rgba="0.61568627450980395466 0.81176470588235294379 0.92941176470588238168 1.0" />
      </material>
    </visual>
    <inertial>
      <origin xyz="3.4593503690053721902e-05 -0.0062999445222072123982 2.2843393600707911792e-19" rpy="0 0 0" />
      <mass value="0.00044289790445047673732" />
      <inertia ixx="9.0894755004835240223e-09" ixy="5.6689994077039824953e-11" ixz="-1.0879024115044969676e-14" iyy="8.3785129146959889042e-09" iyz="1.0964401565814202592e-31" izz="1.3107013728801491474e-08" />
    </inertial>
  </link>

  <link name="12lf_rod_end_3">
    <visual>
      <origin xyz="0 0 0" rpy="0 -0 0" />
      <geometry>
        <mesh filename="../assemblies/right_3R+RH5_leg/meshes/right_12lf_rod_end_visual.stl" />
      </geometry>
      <material name="12lf_rod_end_material">
        <color rgba="0.92771758928836545177 0.61049283053223013518 0.21847658490585164515 1.0" />
      </material>
    </visual>
    <inertial>
      <origin xyz="-4.47351951498684709e-11 -0.0038422185938245742576 6.4384187209394588396e-06" rpy="0 0 0" />
      <mass value="0.00085420491177815895123" />
      <inertia ixx="1.1840985264406848605e-08" ixy="2.0225976201386113951e-16" ixz="-9.2606418919512239757e-16" iyy="3.354962157679728468e-09" iyz="7.4535631381922901862e-12" izz="1.2703522254419973308e-08" />
    </inertial>
  </link>

  <joint name="right_ank_R21" type="revolute">
    <origin xyz="1.3877787807814456755e-17 -0.010000000000000008882 1.3877787807814456755e-17" rpy="-1.570796326794896558 -1.4285697747627732479 1.5707963267950297848" />
    <parent link="ank_rr_link_3" />
    <child link="12lf_rod_end_3" />
    <axis xyz="0 0 1" />
    <limit effort="1" velocity="20" lower="-1.570796326794896558" upper="1.570796326794896558" />
    <joint_properties friction="0.0" />
  </joint>

  <joint name="right_ank_R11" type="revolute">
    <origin xyz="-0.0099999999999999707179 0.012500000000000066613 -0.033600000000000039557" rpy="2.8867109174417181635e-14 -3.1302655555270997905e-14 -0.10116031275652562216" />
    <parent link="ank_roll_link_2" />
    <child link="ank_rr_link_3" />
    <axis xyz="0 0 1" />
    <limit effort="1" velocity="20" lower="-1.570796326794896558" upper="1.570796326794896558" />
    <joint_properties friction="0.0" />
  </joint>

  <link name="ank_rr_link_4">
    <visual>
      <origin xyz="0 0 0" rpy="0 -0 0" />
      <geometry>
        <mesh filename="../assemblies/right_3R+RH5_leg/meshes/right_ank_rr_link_2_visual.stl" />
      </geometry>
      <material name="ank_rr_link_2_material">
        <color rgba="0.61568627450980395466 0.81176470588235294379 0.92941176470588238168 1.0" />
      </material>
    </visual>
    <inertial>
      <origin xyz="3.4593503690060701454e-05 -0.0062999445222072687767 2.2843393600716385884e-19" rpy="0 0 0" />
      <mass value="0.00044289790445047673732" />
      <inertia ixx="9.0894755004835240223e-09" ixy="5.6689994077039857264e-11" ixz="-1.0879024115044969676e-14" iyy="8.3785129146959922129e-09" iyz="8.7823246935403474545e-33" izz="1.3107013728801491474e-08" />
    </inertial>
  </link>

  <link name="12lf_rod_end_4">
    <visual>
      <origin xyz="0 0 0" rpy="0 -0 0" />
      <geometry>
        <mesh filename="../assemblies/right_3R+RH5_leg/meshes/right_12lf_rod_end_2_visual.stl" />
      </geometry>
      <material name="12lf_rod_end_2_material">
        <color rgba="0.92771758928836545177 0.6104928305322302462 0.21847658490585164515 1.0" />
      </material>
    </visual>
    <inertial>
      <origin xyz="-4.4735205116598910544e-11 -0.0038422185938245803291 6.4384187209450399397e-06" rpy="0 0 0" />
      <mass value="0.00085420491177815895123" />
      <inertia ixx="1.1840985264406812209e-08" ixy="2.022597820117990535e-16" ixz="-9.2606419932579897966e-16" iyy="3.3549621576797264e-09" iyz="7.4535631381816079241e-12" izz="1.2703522254420024593e-08" />
    </inertial>
  </link>

  <joint name="right_ank_R22" type="revolute">
    <origin xyz="-1.3877787807814456755e-17 -0.010000000000000008882 2.7755575615628913511e-17" rpy="1.570796326794921649 -1.4285463212679851974 -1.5707963267949038855" />
    <parent link="ank_rr_link_4" />
    <child link="12lf_rod_end_4" />
    <axis xyz="0 0 1" />
    <limit effort="1" velocity="20" lower="-1.570796326794896558" upper="1.570796326794896558" />
    <joint_properties friction="0.0" />
  </joint>

  <joint name="right_ank_R12" type="revolute">
    <origin xyz="0.010000000000000003678 0.012500000000000011102 -0.033600000000000004863" rpy="-3.1415926535897917837 -1.5904604637588844751e-15 -3.0405529889774984831" />
    <parent link="ank_roll_link_2" />
    <child link="ank_rr_link_4" />
    <axis xyz="0 0 1" />
    <limit effort="1" velocity="20" lower="-1.570796326794896558" upper="1.570796326794896558" />
    <joint_properties friction="0.0" />
  </joint>

  <joint name="right_ank_roll" type="revolute">
    <origin xyz="1.1018963519404678664e-14 0.0015000000000008478773 -0.014599999999995005862" rpy="-1.5707963267950115771 1.5707963267945974639 0" />
    <parent link="ank_pitch_link_2" />
    <child link="ank_roll_link_2" />
    <axis xyz="0 0 1" />
    <limit effort="1" velocity="20" lower="-1.570796326794896558" upper="1.570796326794896558" />
    <joint_properties friction="0.0" />
  </joint>

  <joint name="right_ank_pitch" type="revolute">
    <origin xyz="-7.3090839045994630973e-18 0.099999999999999839018 -0.006199999999999821973" rpy="-3.1415926535897926719 3.8309199562601306947e-15 -1.57079632679489678" />
    <parent link="right_calf_link" />
    <child link="ank_pitch_link_2" />
    <axis xyz="0 0 1" />
    <limit effort="1" velocity="20" lower="-1.570796326794896558" upper="1.570796326794896558" />
    <joint_properties friction="0.0" />
  </joint>

  <link name="ball_joint_container_3">
    <visual>
      <origin xyz="0 0 0" rpy="0 -0 0" />
      <geometry>
        <mesh filename="../assemblies/right_3R+RH5_leg/meshes/right_ball_joint_container_visual.stl" />
      </geometry>
      <material name="ball_joint_container_material">
        <color rgba="0.61568627450980395466 0.81176470588235294379 0.9294117647058824927 1.0" />
      </material>
    </visual>
    <inertial>
      <origin xyz="4.7221442975712073132e-19 -1.2135113793955999071e-19 -0.0097125341669083396778" rpy="0 0 0" />
      <mass value="4.8037356425330562243e-05" />
      <inertia ixx="7.1865480628741666366e-10" ixy="-4.6616368691501084609e-27" ixz="-1.1843682288965544046e-38" iyy="8.475420427718555978e-10" iyz="-9.2441920556660340881e-41" izz="1.8625314111651911712e-10" />
    </inertial>
  </link>

  <link name="ball_joint_ball_3">
    <visual>
      <origin xyz="0 0 0" rpy="0 -0 0" />
      <geometry>
        <mesh filename="../assemblies/right_3R+RH5_leg/meshes/right_ball_joint_ball_visual.stl" />
      </geometry>
      <material name="ball_joint_ball_material">
        <color rgba="0.3291302810242056065 0.44310466418644928188 0.69204871161977121741 1.0" />
      </material>
    </visual>
    <inertial>
      <origin xyz="-9.2723657815922728581e-19 -0.001030866981001647394 -9.5897189779356104259e-18" rpy="0 0 0" />
      <mass value="4.4053796295264623832e-05" />
      <inertia ixx="3.1285011349692509995e-10" ixy="-1.7111341847049916096e-25" ixz="-4.0195729449714431366e-26" iyy="6.2569568612796160888e-11" iyz="2.887154056259992083e-25" izz="3.1285321460375878481e-10" />
    </inertial>
  </link>

  <link name="12lf_3">
    <visual>
      <origin xyz="0 0 0" rpy="0 -0 0" />
      <geometry>
        <mesh filename="../assemblies/right_3R+RH5_leg/meshes/right_12lf_visual.stl" />
      </geometry>
      <material name="12lf_material">
        <color rgba="0.62004392096503557763 0.58836684612040235365 0.49897069027350277048 1.0" />
      </material>
    </visual>
    <inertial>
      <origin xyz="0.0049084207226888108486 -0.00013802440006487488302 -0.029947003575832954053" rpy="0 0 0" />
      <mass value="0.044782197690790462308" />
      <inertia ixx="1.5260128420478603244e-05" ixy="2.2955774098252478063e-08" ixz="-8.1364204859702758914e-08" iyy="1.8188469777197004151e-05" iyz="-5.5542241170340108476e-08" izz="5.1496273889316071062e-06" />
    </inertial>
  </link>

  <link name="12lf_rod_3">
    <visual>
      <origin xyz="0 0 0" rpy="0 -0 0" />
      <geometry>
        <mesh filename="../assemblies/right_3R+RH5_leg/meshes/right_12lf_rod_visual.stl" />
      </geometry>
      <material name="12lf_rod_material">
        <color rgba="0.80250260812861884396 0.89340612183512713163 0.94491811293548189088 1.0" />
      </material>
    </visual>
    <inertial>
      <origin xyz="-6.322208404493695693e-07 4.693325515433133728e-07 -0.012893387334330659588" rpy="0 0 0" />
      <mass value="0.0025088292483592144512" />
      <inertia ixx="2.6944521128611043103e-07" ixy="7.1389570398975775403e-15" ixz="1.3562243134968357967e-11" iyy="2.6944520001667598687e-07" iyz="-1.0089988379318255771e-11" izz="1.7809843599861002329e-08" />
    </inertial>
  </link>

  <joint name="right_ank_act1" type="prismatic">
    <origin xyz="2.2722093427421374834e-06 1.6375789613221058971e-15 -0.072660031604109970305" rpy="-3.1415926535897806815 7.845419351877858644e-15 -2.2021168238260604433" />
    <parent link="12lf_3" />
    <child link="12lf_rod_3" />
    <axis xyz="0 0 1" />
    <limit effort="1" velocity="20" lower="0" upper="0.040000000000000000833" />
    <joint_properties friction="0.0" />
  </joint>

  <joint name="right_ank_B31" type="revolute">
    <origin xyz="-6.0715321659188248304e-18 -0.006438750500400436394 -1.3877787807814456755e-17" rpy="-1.5707963267948954478 0.16913440034160504011 5.0191724325132069355e-15" />
    <parent link="ball_joint_ball_3" />
    <child link="12lf_3" />
    <axis xyz="0 0 1" />
    <limit effort="1" velocity="20" lower="-0.785398163397448279" upper="0.785398163397448279" />
    <joint_properties friction="0.0" />
  </joint>

  <joint name="right_ank_B21" type="revolute">
    <origin xyz="0 5.5511151231257827021e-17 -0.011499999999999998071" rpy="1.570796326794896558 -1.4285697747625634157 1.5707963267948530373" />
    <parent link="ball_joint_container_3" />
    <child link="ball_joint_ball_3" />
    <axis xyz="0 0 1" />
    <limit effort="1" velocity="20" lower="-0.785398163397448279" upper="0.785398163397448279" />
    <joint_properties friction="0.0" />
  </joint>

  <joint name="right_ank_B11" type="revolute">
    <origin xyz="0.0079999999999999689415 0.015000000000000124345 -0.011500000000000058786" rpy="1.5707963267948932273 -1.4696360140379622905 -1.5707963267948383823" />
    <parent link="right_calf_link" />
    <child link="ball_joint_container_3" />
    <axis xyz="0 0 1" />
    <limit effort="1" velocity="20" lower="-0.785398163397448279" upper="0.785398163397448279" />
    <joint_properties friction="0.0" />
  </joint>

  <link name="ball_joint_container_4">
    <visual>
      <origin xyz="0 0 0" rpy="0 -0 0" />
      <geometry>
        <mesh filename="../assemblies/right_3R+RH5_leg/meshes/right_ball_joint_container_2_visual.stl" />
      </geometry>
      <material name="ball_joint_container_2_material">
        <color rgba="0.61568627450980395466 0.81176470588235294379 0.9294117647058824927 1.0" />
      </material>
    </visual>
    <inertial>
      <origin xyz="7.411108333664368946e-18 -1.2135113793956324072e-19 -0.0097125341669083414126" rpy="0 0 0" />
      <mass value="4.8037356425330562243e-05" />
      <inertia ixx="7.1865480628741666366e-10" ixy="1.5305926664110400689e-26" ixz="-2.1154847519822869587e-38" iyy="8.475420427718555978e-10" iyz="8.3623681091656398065e-40" izz="1.8625314111651911712e-10" />
    </inertial>
  </link>

  <link name="ball_joint_ball_4">
    <visual>
      <origin xyz="0 0 0" rpy="0 -0 0" />
      <geometry>
        <mesh filename="../assemblies/right_3R+RH5_leg/meshes/right_ball_joint_ball_2_visual.stl" />
      </geometry>
      <material name="ball_joint_ball_2_material">
        <color rgba="0.3291302810242056065 0.44310466418644928188 0.69204871161977121741 1.0" />
      </material>
    </visual>
    <inertial>
      <origin xyz="-1.0444401871169769954e-17 -0.0010308669810016666928 -9.0457845496231557146e-18" rpy="0 0 0" />
      <mass value="4.4053796295264623832e-05" />
      <inertia ixx="3.1285011349692654751e-10" ixy="-1.3889939894657838189e-25" ixz="-8.9256007389473247546e-26" iyy="6.2569568612796328909e-11" iyz="4.0147766172360748991e-25" izz="3.1285321460377295028e-10" />
    </inertial>
  </link>

  <link name="12lf_4">
    <visual>
      <origin xyz="0 0 0" rpy="0 -0 0" />
      <geometry>
        <mesh filename="../assemblies/right_3R+RH5_leg/meshes/right_12lf_2_visual.stl" />
      </geometry>
      <material name="12lf_2_material">
        <color rgba="0.62004392096503546661 0.5883668461204021316 0.49897069027350277048 1.0" />
      </material>
    </visual>
    <inertial>
      <origin xyz="0.0049084207226871160237 -0.00013802440006710194271 -0.029947003575831306066" rpy="0 0 0" />
      <mass value="0.044782197690790476186" />
      <inertia ixx="1.5260128420477444503e-05" ixy="2.2955774098555209624e-08" ixz="-8.1364204860458179954e-08" iyy="1.8188469777194019207e-05" iyz="-5.5542241171322177004e-08" izz="5.1496273889297512571e-06" />
    </inertial>
  </link>

  <link name="12lf_rod_4">
    <visual>
      <origin xyz="0 0 0" rpy="0 -0 0" />
      <geometry>
        <mesh filename="../assemblies/right_3R+RH5_leg/meshes/right_12lf_rod_2_visual.stl" />
      </geometry>
      <material name="12lf_rod_2_material">
        <color rgba="0.80250260812861884396 0.89340612183512713163 0.94491811293548189088 1.0" />
      </material>
    </visual>
    <inertial>
      <origin xyz="-6.3222084132940662595e-07 4.6933255080423075126e-07 -0.012893387334332477578" rpy="0 0 0" />
      <mass value="0.0025088292483592144512" />
      <inertia ixx="2.694452112860109576e-07" ixy="7.1389570133572895509e-15" ixz="1.3562243158146537111e-11" iyy="2.6944520001657651344e-07" iyz="-1.0089988358226552481e-11" izz="1.7809843599861032107e-08" />
    </inertial>
  </link>

  <joint name="right_ank_act2" type="prismatic">
    <origin xyz="2.2722093418418159994e-06 -2.3939183968479937903e-15 -0.072660030478818443678" rpy="-3.1415926535897926719 -5.822843740105227622e-15 -2.202116823826253178" />
    <parent link="12lf_4" />
    <child link="12lf_rod_4" />
    <axis xyz="0 0 1" />
    <limit effort="1" velocity="20" lower="0" upper="0.040000000000000000833" />
    <joint_properties friction="0.0" />
  </joint>

  <joint name="right_ank_B32" type="revolute">
    <origin xyz="-1.561251128379126385e-17 -0.0064387505004003531273 -1.3877787807814456755e-17" rpy="-1.5707963267948952257 -0.17993145005754265786 3.2634092460731900895e-15" />
    <parent link="ball_joint_ball_4" />
    <child link="12lf_4" />
    <axis xyz="0 0 1" />
    <limit effort="1" velocity="20" lower="-0.785398163397448279" upper="0.785398163397448279" />
    <joint_properties friction="0.0" />
  </joint>

  <joint name="right_ank_B22" type="revolute">
    <origin xyz="0 0 -0.011499999999999992867" rpy="1.5707963267949405228 -1.4285463212677880218 1.5707963267949816011" />
    <parent link="ball_joint_container_4" />
    <child link="ball_joint_ball_4" />
    <axis xyz="0 0 1" />
    <limit effort="1" velocity="20" lower="-0.785398163397448279" upper="0.785398163397448279" />
    <joint_properties friction="0.0" />
  </joint>

  <joint name="right_ank_B12" type="revolute">
    <origin xyz="0.0080000000000000730249 0.015000000000000263123 0.028299999999999901623" rpy="-1.5707963267948388264 -1.4697566621826396727 1.5707963267950122432" />
    <parent link="right_calf_link" />
    <child link="ball_joint_container_4" />
    <axis xyz="0 0 1" />
    <limit effort="1" velocity="20" lower="-0.785398163397448279" upper="0.785398163397448279" />
    <joint_properties friction="0.0" />
  </joint>

  <joint name="right_knee" type="revolute">
    <origin xyz="-1.8318267252532356178e-15 0.095999999999998836264 0.027400000000000895861" rpy="3.1415926535897895633 -1.5829351718147190682e-16 -3.141592653589793116" />
    <parent link="right_hip_pitch_link" />
    <child link="right_calf_link" />
    <axis xyz="0 0 1" />
    <limit effort="1" velocity="20" lower="-1.570796326794896558" upper="1.570796326794896558" />
    <joint_properties friction="0.0" />
  </joint>

  <joint name="right_hip_pitch" type="revolute">
    <origin xyz="-0.024000000716146767388 -0.019000000152456290176 -0.019000000152450020885" rpy="-1.5707963267951789987 1.5707963267947586683 0" />
    <parent link="hip_roll_link_2" />
    <child link="right_hip_pitch_link" />
    <axis xyz="0 0 1" />
    <limit effort="1" velocity="20" lower="-1.570796326794896558" upper="1.570796326794896558" />
    <joint_properties friction="0.0" />
  </joint>

  <joint name="right_hip_roll" type="revolute">
    <origin xyz="-0.018999999999999891975 2.3744804088669454642e-18 -0.025999999999999984929" rpy="-3.3306690738820289997e-16 -1.570796326794896558 0" />
    <parent link="hip_yaw_link_2" />
    <child link="hip_roll_link_2" />
    <axis xyz="0 0 1" />
    <limit effort="1" velocity="20" lower="-1.570796326794896558" upper="1.570796326794896558" />
    <joint_properties friction="0.0" />
  </joint>


</robot>
